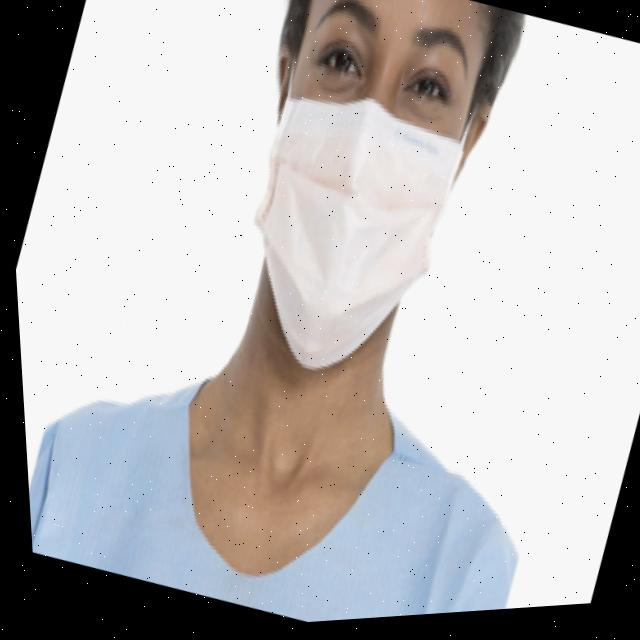Mask: (187, 24, 513, 412)
